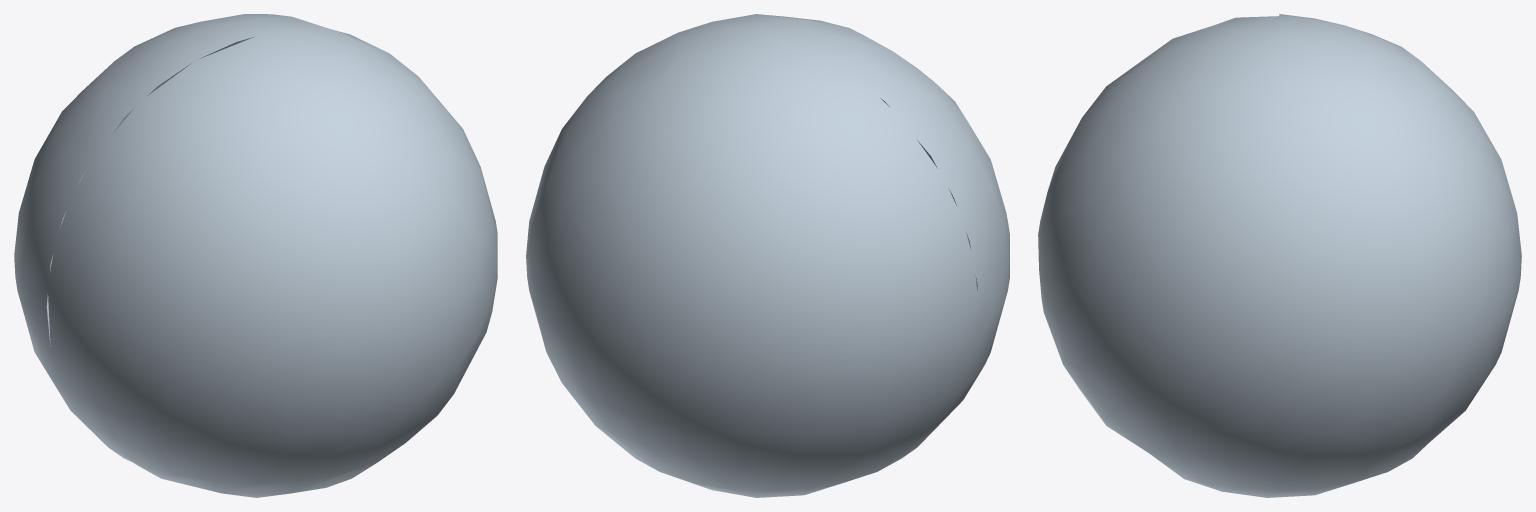
File: route-bead.glb
3 renders of one model, left to right at view 1: azimuth 30°, elevation 25°; view 2: azimuth 150°, elevation 25°; view 3: azimuth 270°, elevation 25°, orthographic.
Parts seen in each view (by area): view 1: Bead; view 2: Bead; view 3: Bead.
Part boxes in pixels (bbox=[...]): Bead: bbox=[14, 14, 497, 497]; Bead: bbox=[526, 14, 1009, 497]; Bead: bbox=[1038, 14, 1521, 497].
Size of the model in its own units: 2 by 2 by 2.
